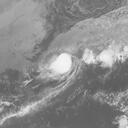cyclone: (49, 52, 75, 77)
